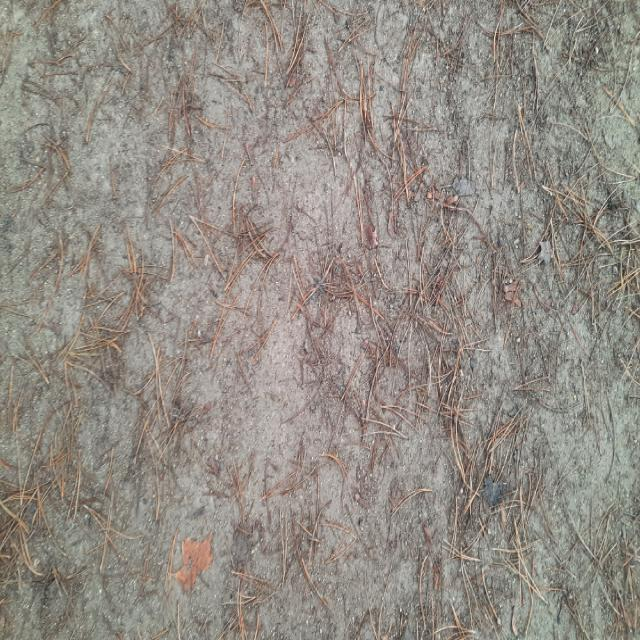white-sand: (0, 2, 639, 639)
